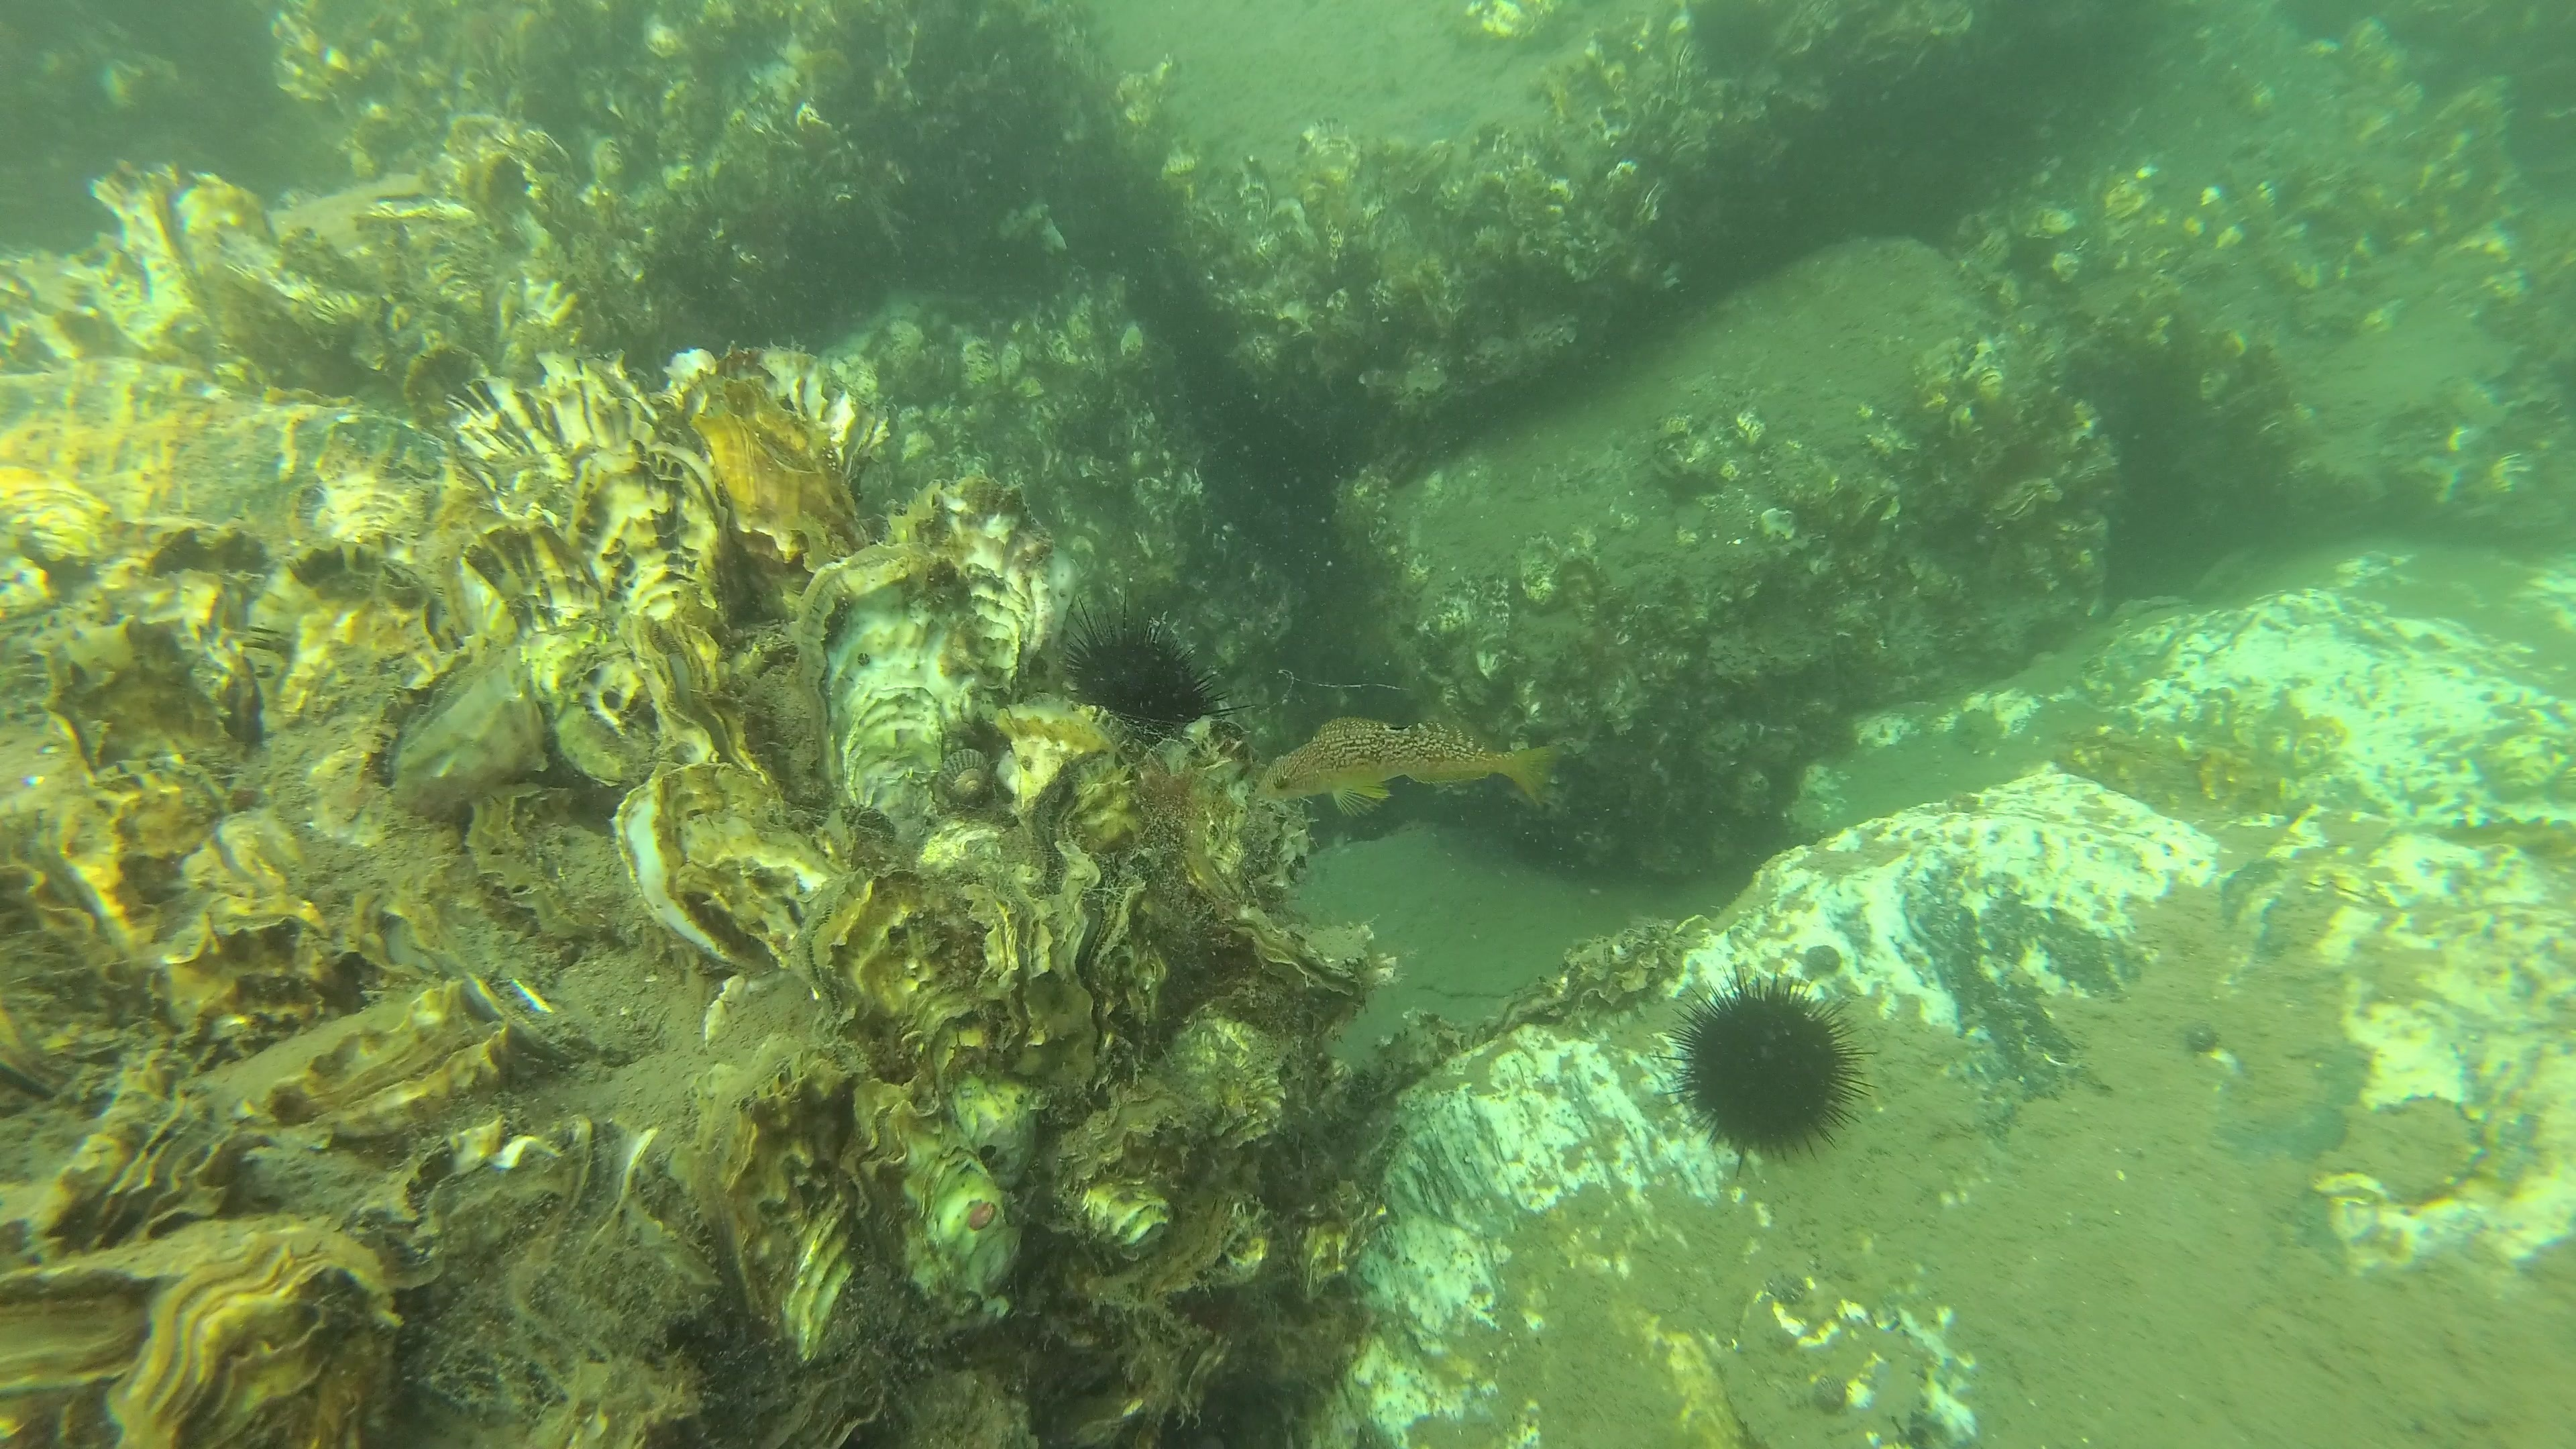echinus: (1665, 975, 1870, 1171), (1060, 626, 1235, 729), (1681, 0, 1792, 69)
